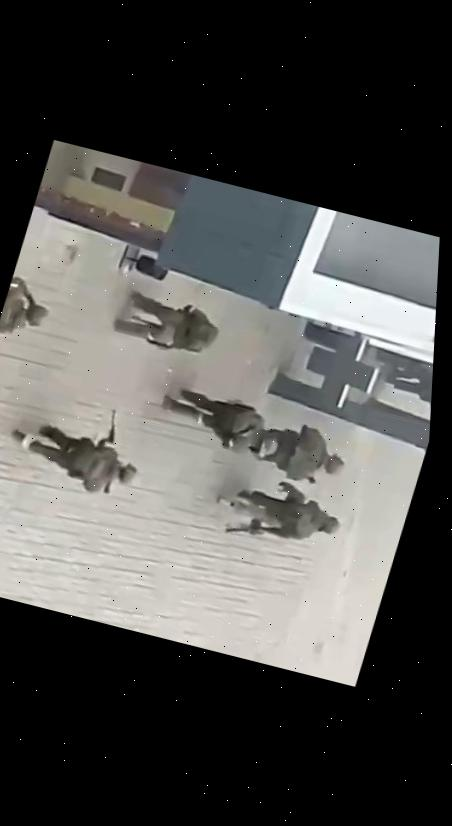person: (0, 385, 155, 502), (206, 466, 350, 560), (152, 378, 291, 462), (244, 413, 356, 492), (109, 286, 225, 360), (0, 272, 60, 357)
